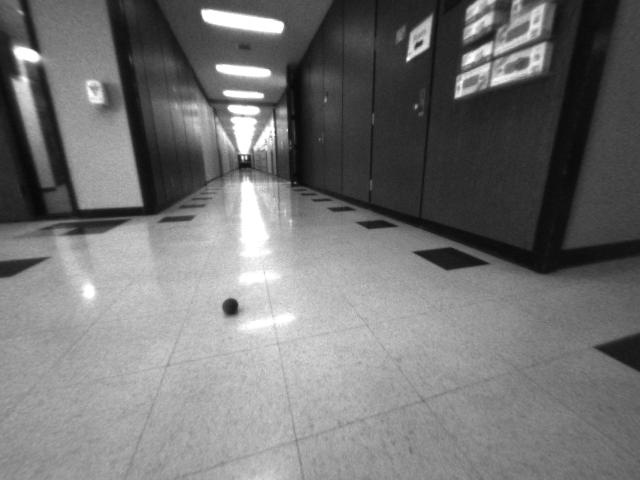dogtoy: (214, 287, 255, 327)
